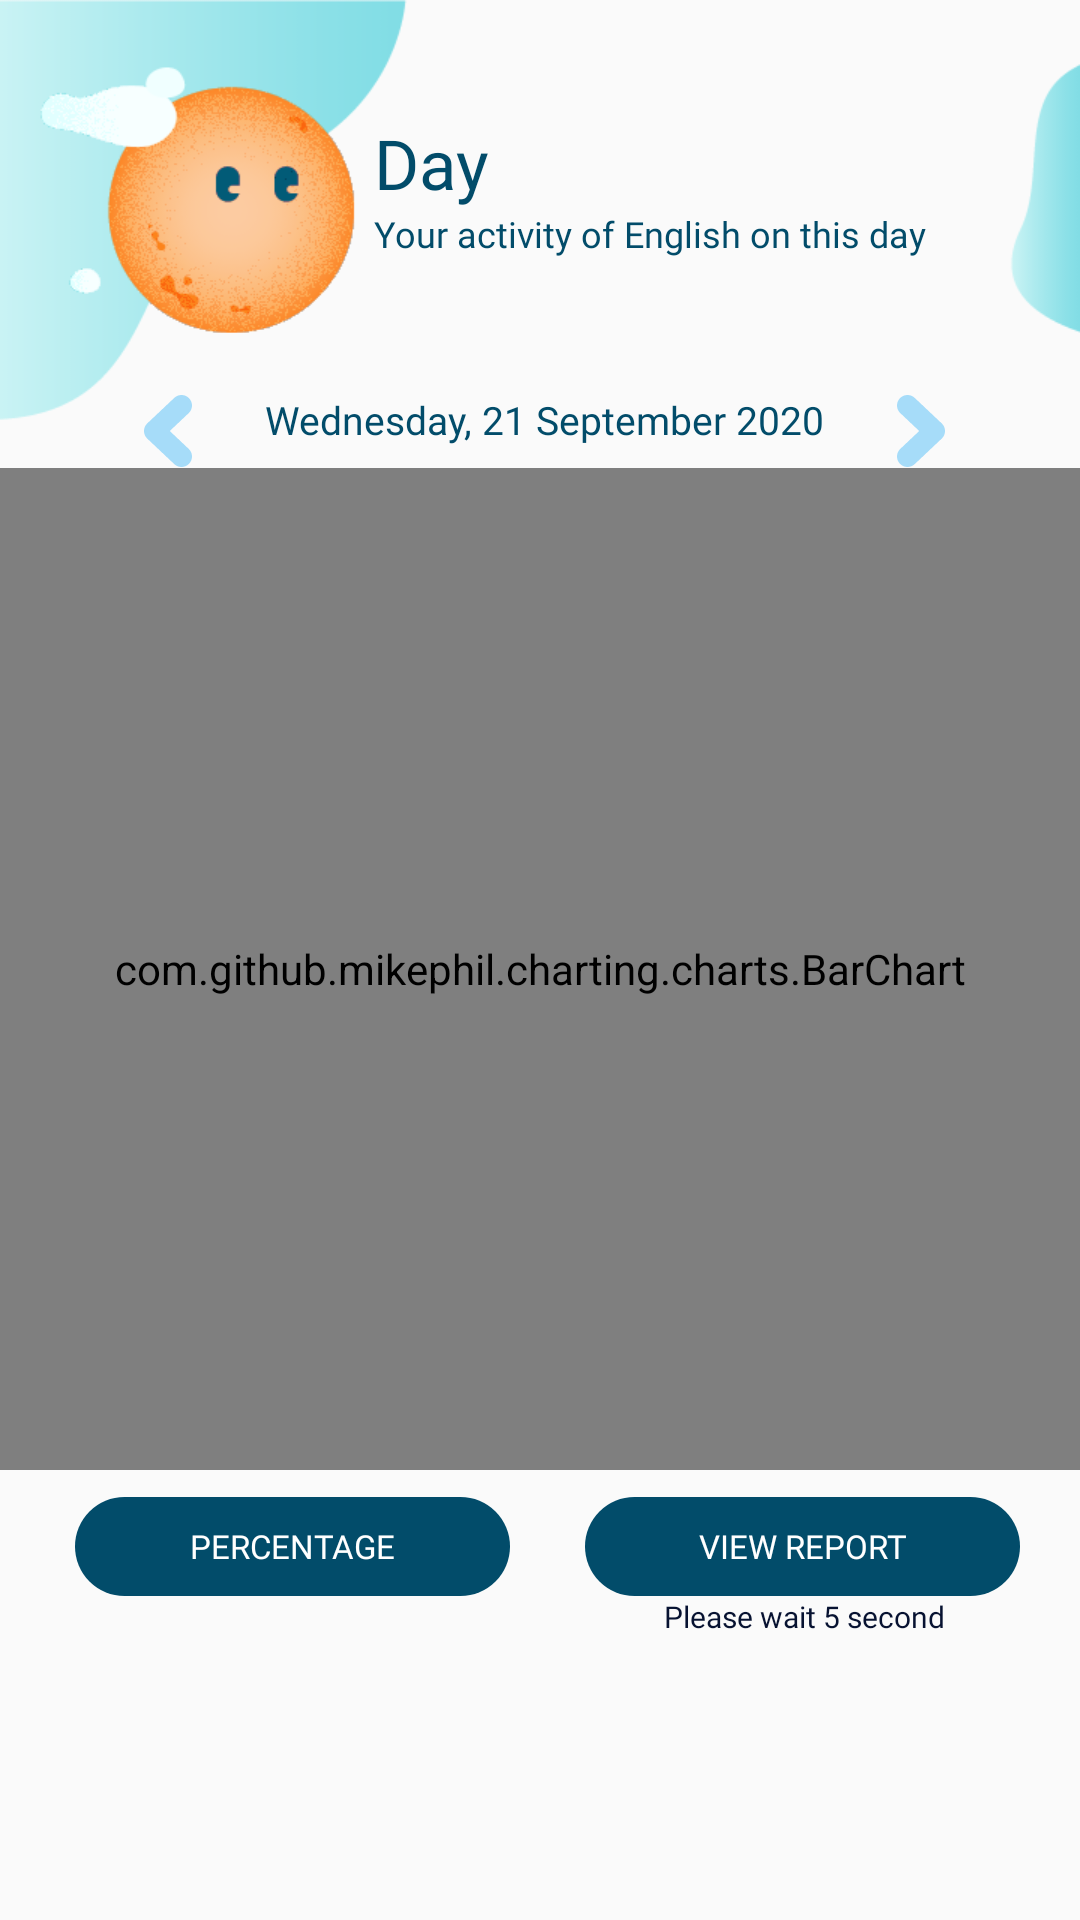

Icons on this 1080px×1920px Android screen, each with its box as (x1, y1, x2, y2):
left: (144, 395, 192, 467)
right: (897, 395, 945, 467)
